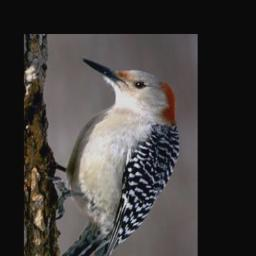Woodpecker: (47, 57, 181, 256)
